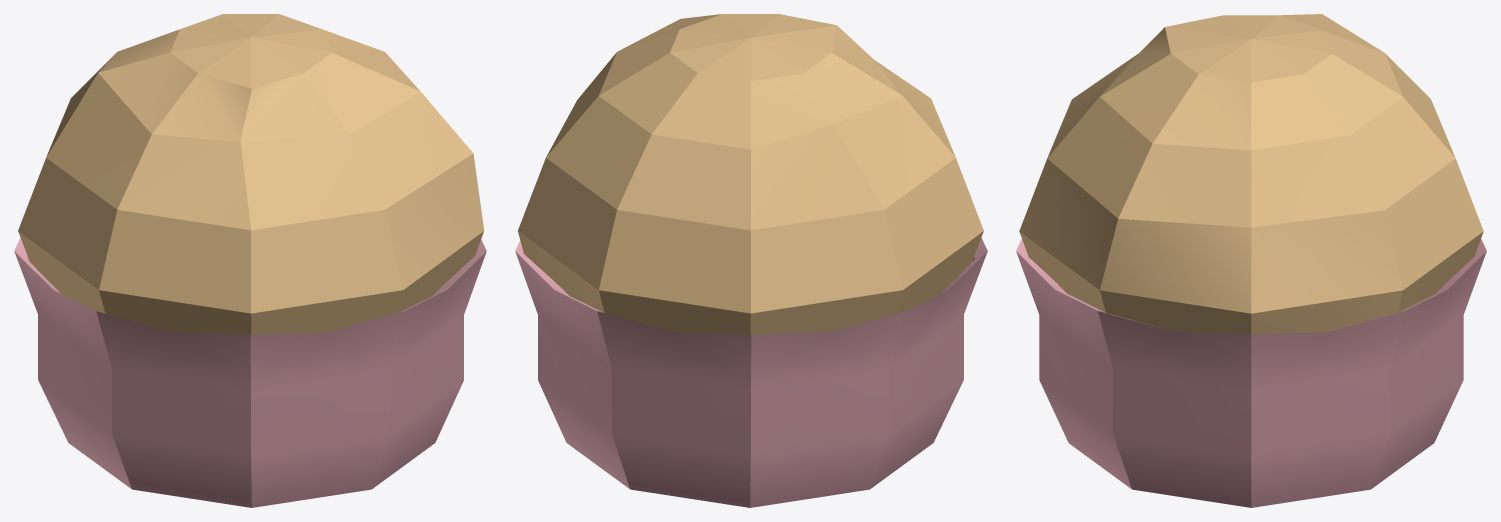
Rendered from Blank_muffin.fbx.
3 renders of one model, left to right at view 1: azimuth 30°, elevation 25°; view 2: azimuth 150°, elevation 25°; view 3: azimuth 270°, elevation 25°, orthographic.
Visible parts, largest first — view 1: Blank_Muffin; view 2: Blank_Muffin; view 3: Blank_Muffin.
Part boxes in pixels (left/top/right/bottom): Blank_Muffin: left=14, top=14, right=486, bottom=507; Blank_Muffin: left=515, top=14, right=987, bottom=507; Blank_Muffin: left=1016, top=14, right=1486, bottom=507.
Size of the model in its own units: 1.95 by 1.8 by 1.97.
